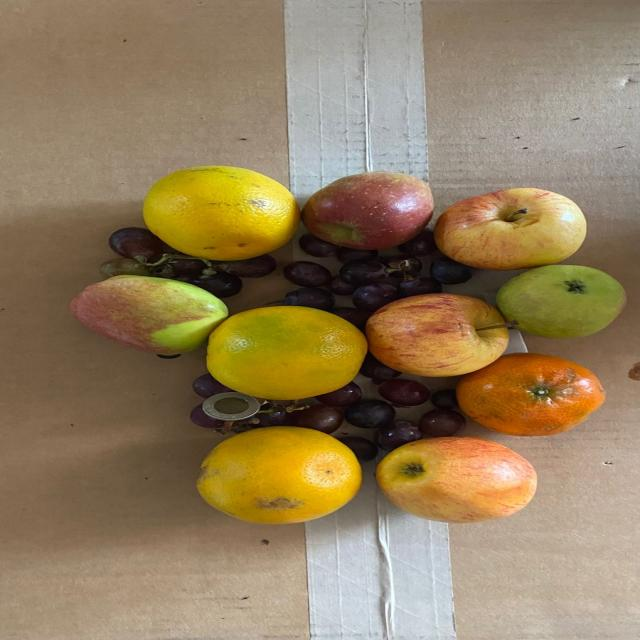moneda: (192, 388, 264, 421)
